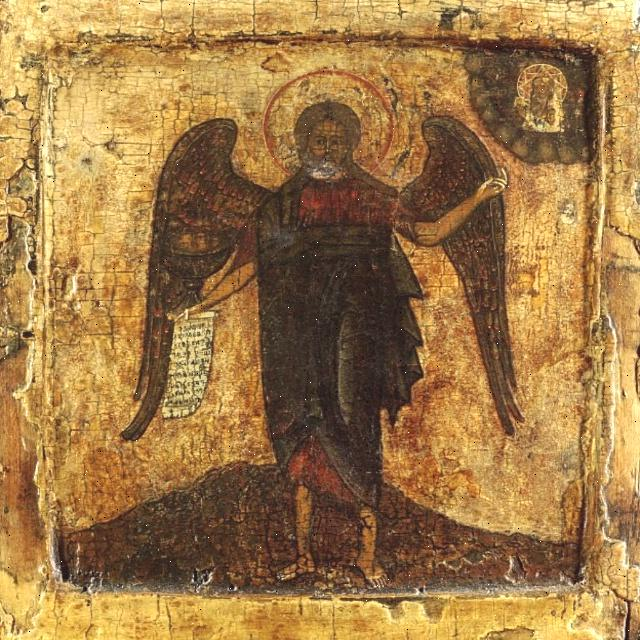angel: (80, 55, 526, 584)
aura: (263, 64, 401, 176)
scroll: (153, 302, 234, 428)
wing: (115, 101, 271, 436), (401, 108, 546, 440)
